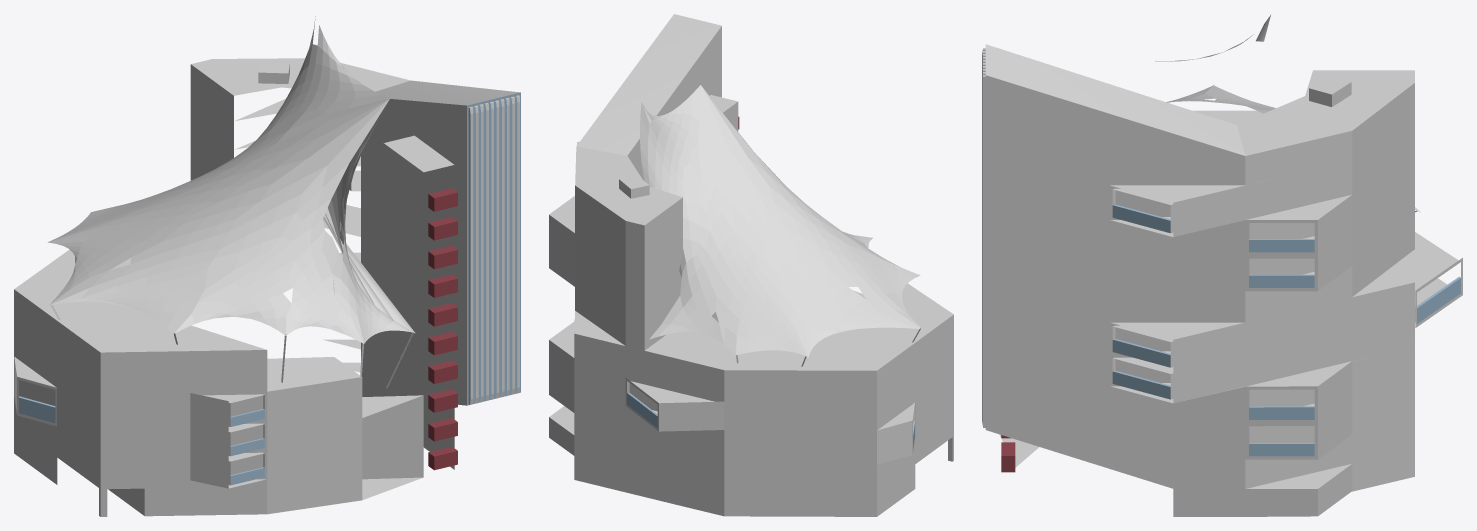
Rendered from FAE_USACH2.glb.
3 views of the same model, side by side, from view 1: azimuth 30°, elevation 25°; view 2: azimuth 150°, elevation 25°; view 3: azimuth 270°, elevation 25° (orthographic). The views are drawn at different scales.
Parts seen in each view (by area): view 1: Cube, Polygon.005, Cube.001, Cube.006, Cube.002, Cube.004, Cube.005; view 2: Cube, Polygon.005, Cube.005, Cube.004; view 3: Cube, Cube.004, Cube.001, Polygon.005, Cube.005.
Part boxes in pixels (bbox=[...]): Cube: bbox=[14, 58, 520, 516]; Polygon.005: bbox=[47, 16, 415, 343]; Cube.001: bbox=[468, 95, 519, 404]; Cube.006: bbox=[467, 92, 520, 405]; Cube.002: bbox=[428, 188, 457, 470]; Cube.004: bbox=[19, 396, 264, 485]; Cube.005: bbox=[258, 63, 289, 83]; Cube: bbox=[549, 14, 953, 516]; Polygon.005: bbox=[640, 85, 921, 357]; Cube.005: bbox=[619, 175, 649, 198]; Cube.004: bbox=[627, 392, 914, 449]; Cube: bbox=[985, 44, 1462, 516]; Cube.004: bbox=[1112, 204, 1460, 456]; Cube.001: bbox=[982, 48, 985, 427]; Polygon.005: bbox=[1155, 15, 1420, 212]; Cube.005: bbox=[1309, 75, 1351, 106].
Size of the model in its own units: 1.65 by 1.46 by 1.4.
